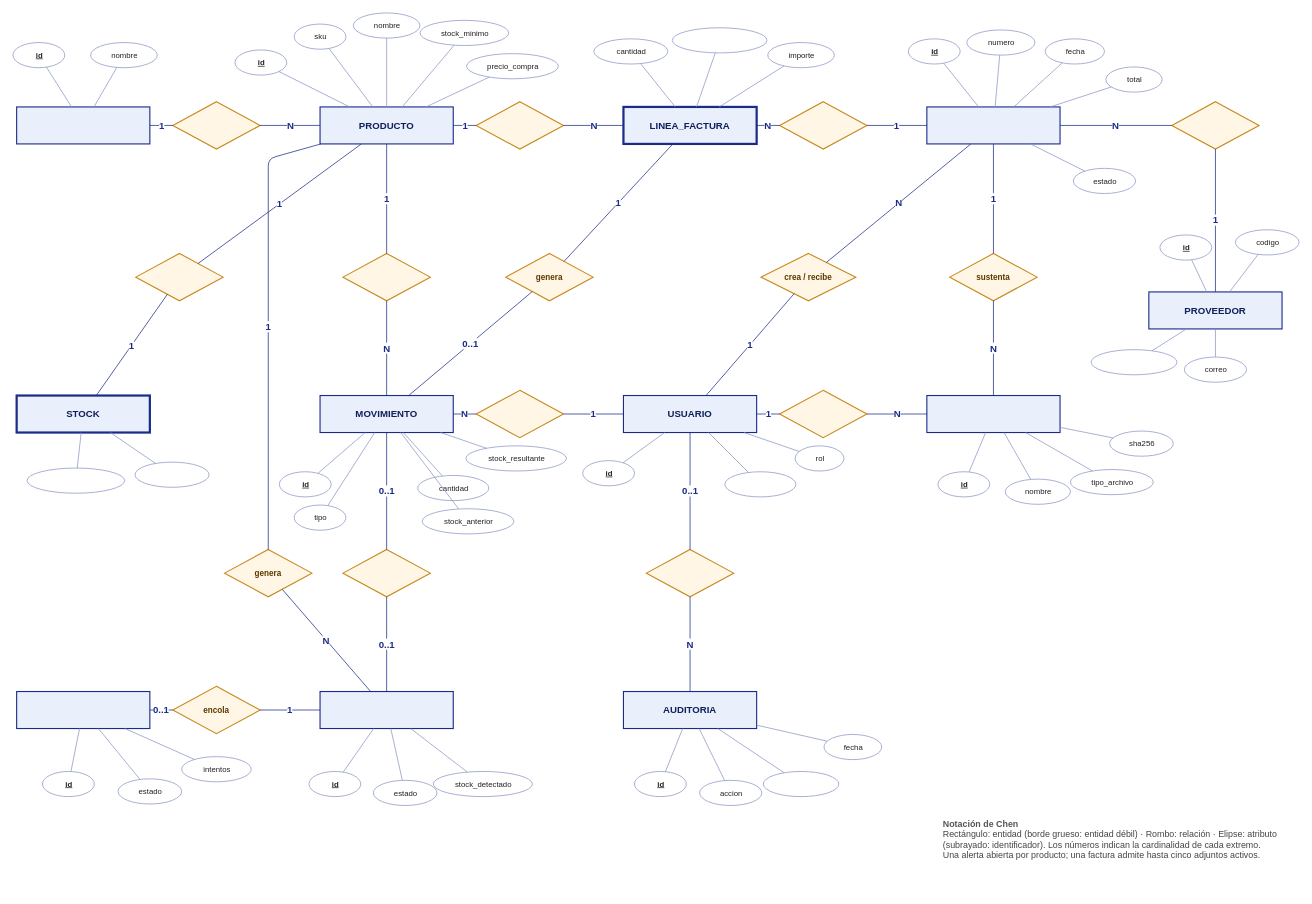
Some shapes in this 1312 by 904 pixel diagram are drawn without their labels. Here are the shapes that lost their labels. From the top down, the centre of each, then its label:
the point at 719,40: precio_unitario
the point at 83,125: CATEGORIA
the point at 216,125: clasifica
the point at 519,125: aparece en
the point at 823,125: detalla
the point at 993,125: FACTURA_COMPRA
the point at 1215,125: emite
the point at 179,277: tiene
the point at 386,277: involucra
the point at 1133,362: razon_social
the point at 519,413: registra
the point at 823,413: sube
the point at 993,414: ADJUNTO
the point at 75,480: cantidad_actual
the point at 171,474: ubicacion
the point at 760,484: nombres
the point at 386,573: origina
the point at 690,573: realiza
the point at 83,710: NOTIFICACION
the point at 386,710: ALERTA
the point at 801,784: resultado
